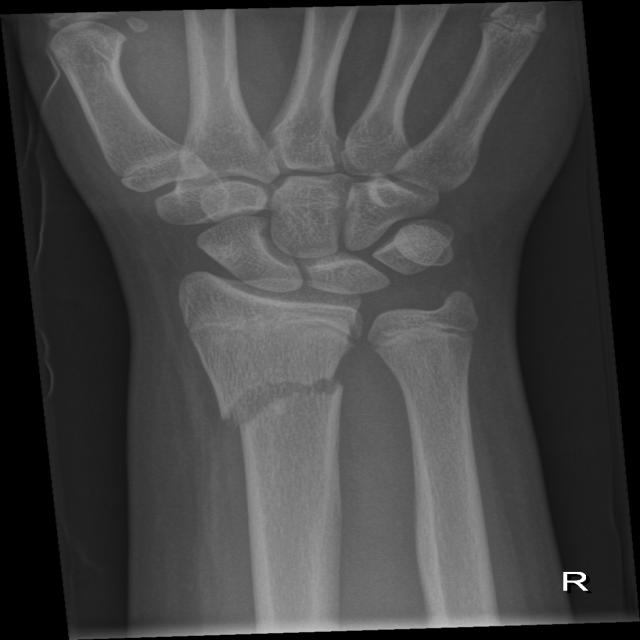radius fracture: (198, 344, 363, 570)
